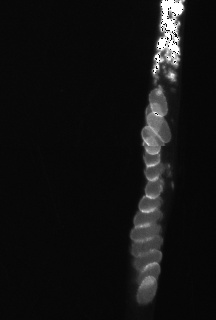embryo: (146, 112, 170, 142), (131, 235, 162, 257), (136, 276, 157, 305), (130, 223, 160, 243), (138, 262, 160, 289), (133, 249, 161, 270), (145, 102, 165, 131), (133, 208, 161, 227), (149, 88, 167, 116), (142, 126, 164, 146), (138, 196, 160, 213), (145, 178, 162, 198), (142, 136, 160, 154), (145, 163, 162, 181), (143, 153, 160, 168)
